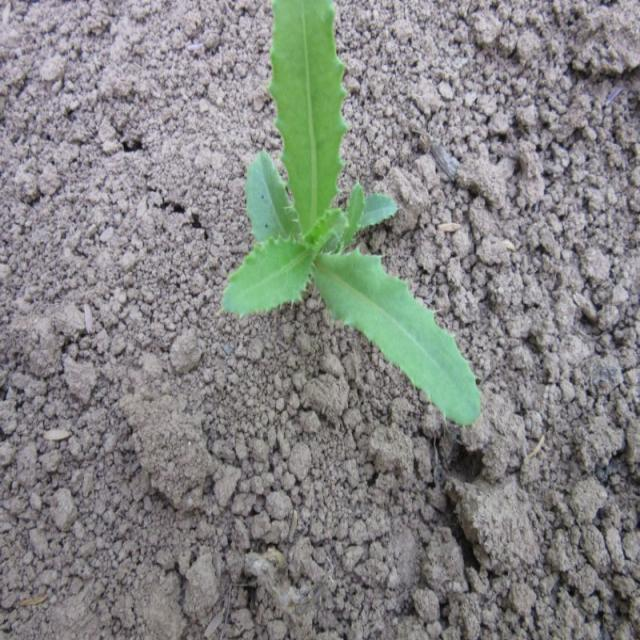field_thistle: (229, 0, 504, 458)
